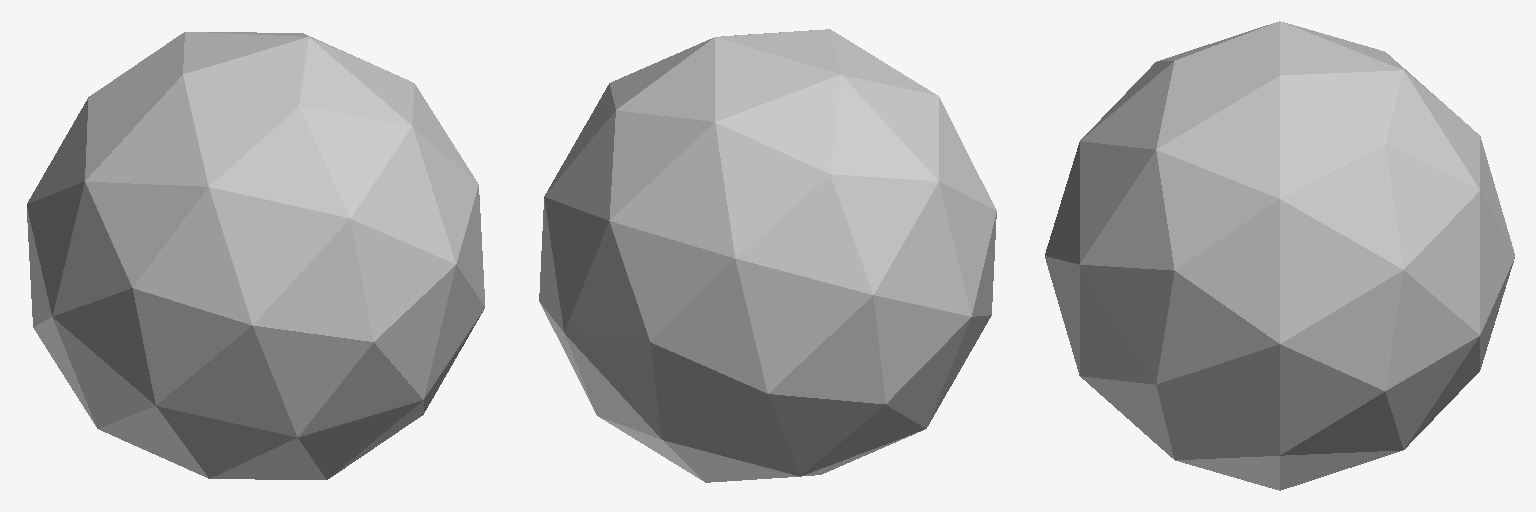
The model's file is canonical head eyes.obj.
3 views of the same model, side by side, from view 1: azimuth 30°, elevation 25°; view 2: azimuth 150°, elevation 25°; view 3: azimuth 270°, elevation 25° (orthographic).
Parts seen in each view (by area): view 1: right_eye; view 2: right_eye; view 3: right_eye.
Boxes of the visible parts, x1=… form: right_eye: x1=27, y1=32, x2=484, y2=479; right_eye: x1=539, y1=29, x2=996, y2=482; right_eye: x1=1045, y1=21, x2=1514, y2=490.
Size of the model in its own units: 0.024 by 0.0232 by 0.024.